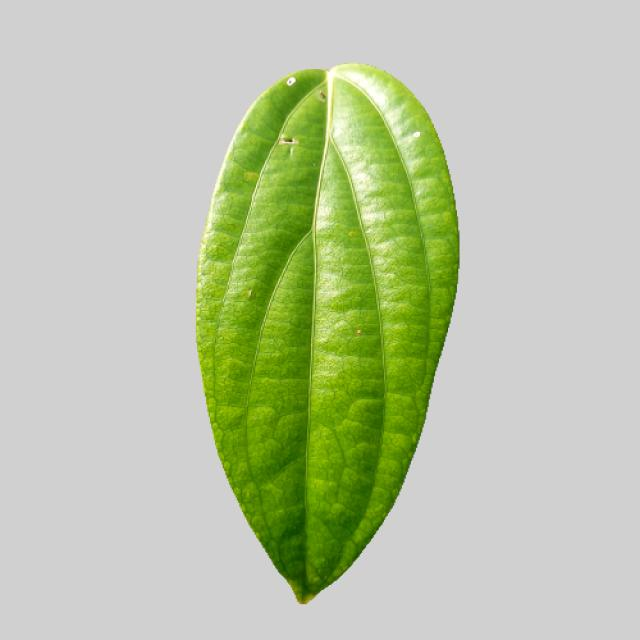healthy: (191, 60, 464, 608)
